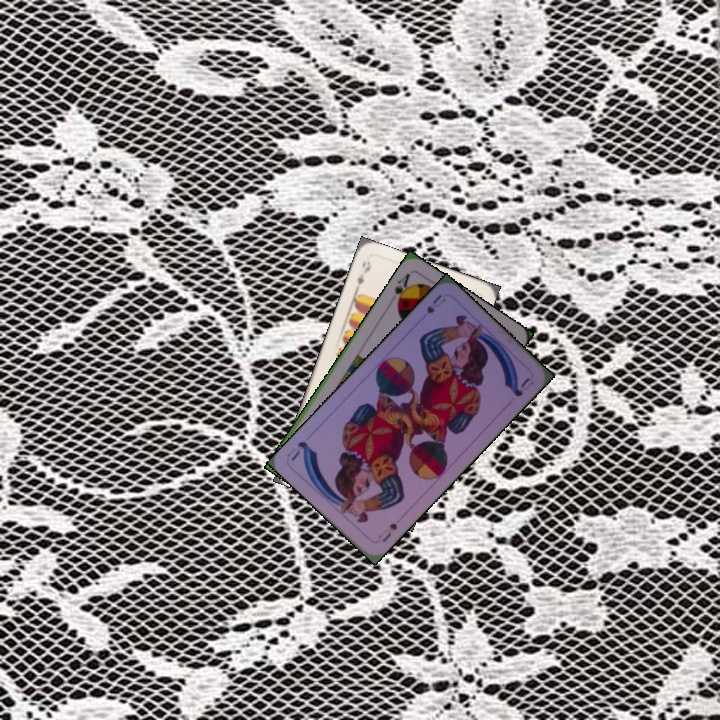E9: (351, 257, 374, 294)
SA: (386, 269, 415, 309)
SU: (423, 291, 449, 316), (374, 519, 400, 544)
